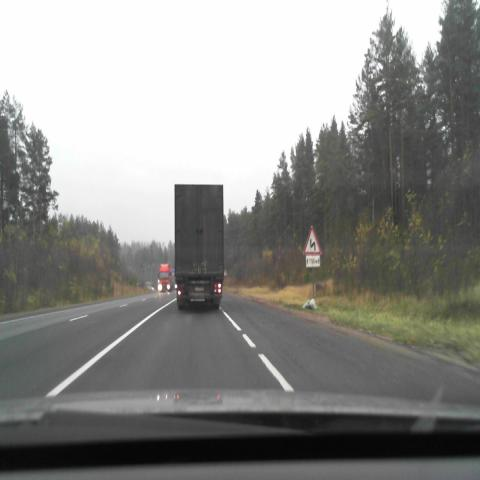1_12_2: (303, 225, 323, 255)
